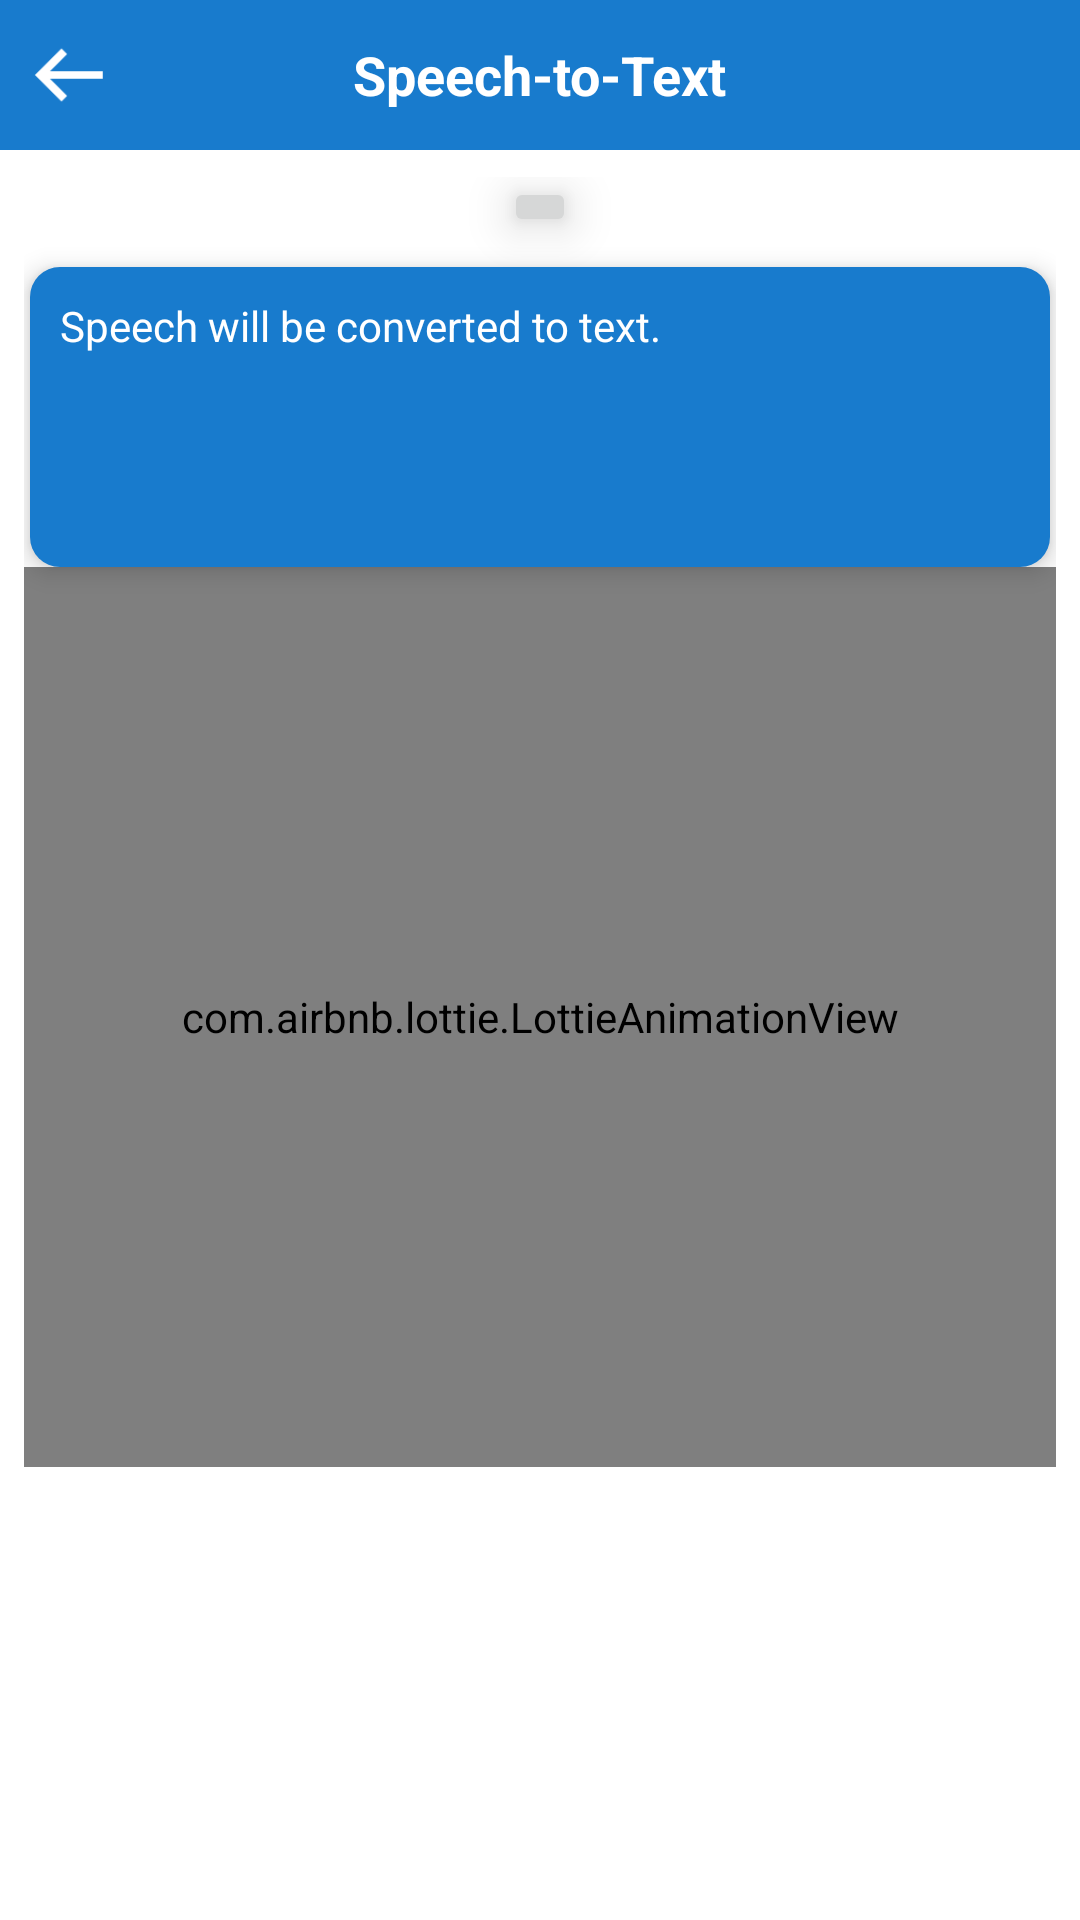

Locate icon controls on the screen. Image size 1080px x 1920px, boxes as Rect(x1, y1, x2, y2).
left: Rect(35, 48, 103, 102)
